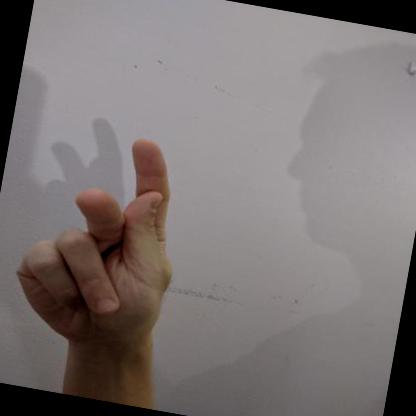K: (16, 139, 171, 361)
